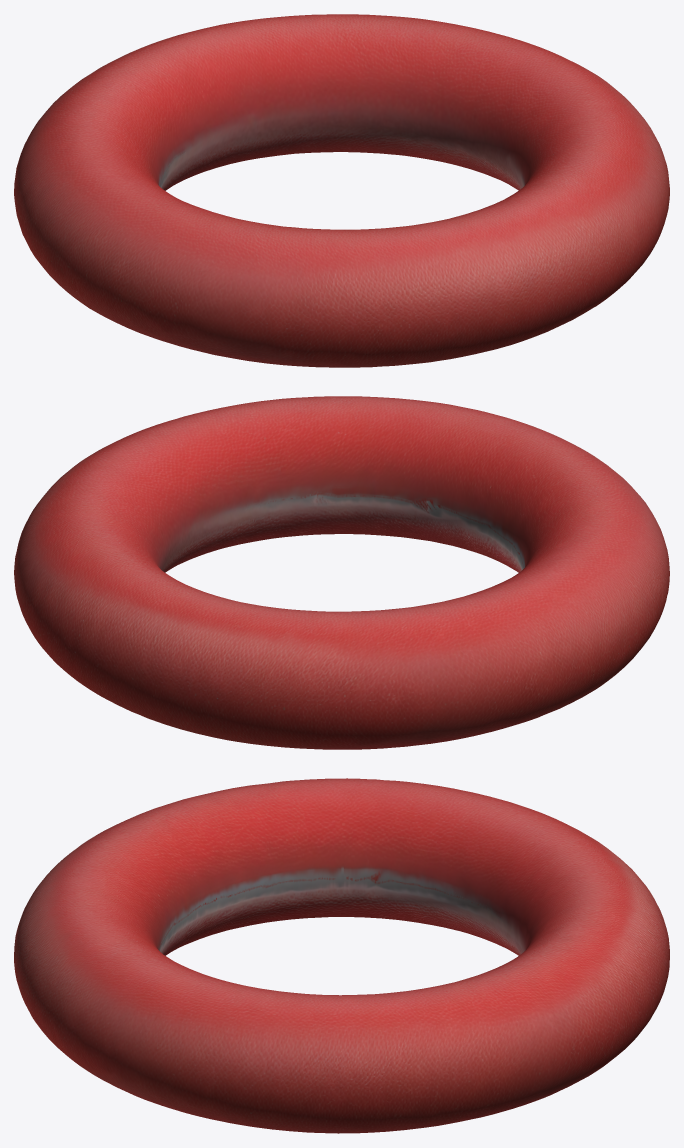
Rendered from VAR_SunkenCity_LifeRing_Red.fbx.
The picture shows the model from 3 angles, top to bottom: view 1: azimuth 30°, elevation 25°; view 2: azimuth 150°, elevation 25°; view 3: azimuth 270°, elevation 25°; orthographic projection.
Parts seen in each view (by area): view 1: texture_mapping; view 2: texture_mapping; view 3: texture_mapping.
Boxes of the visible parts, <box> form: texture_mapping: <box>14,14,669,367</box>; texture_mapping: <box>14,396,669,749</box>; texture_mapping: <box>14,778,669,1133</box>.
Size of the model in its own units: 1 by 1 by 0.2121.
1 material, 1 textured.
